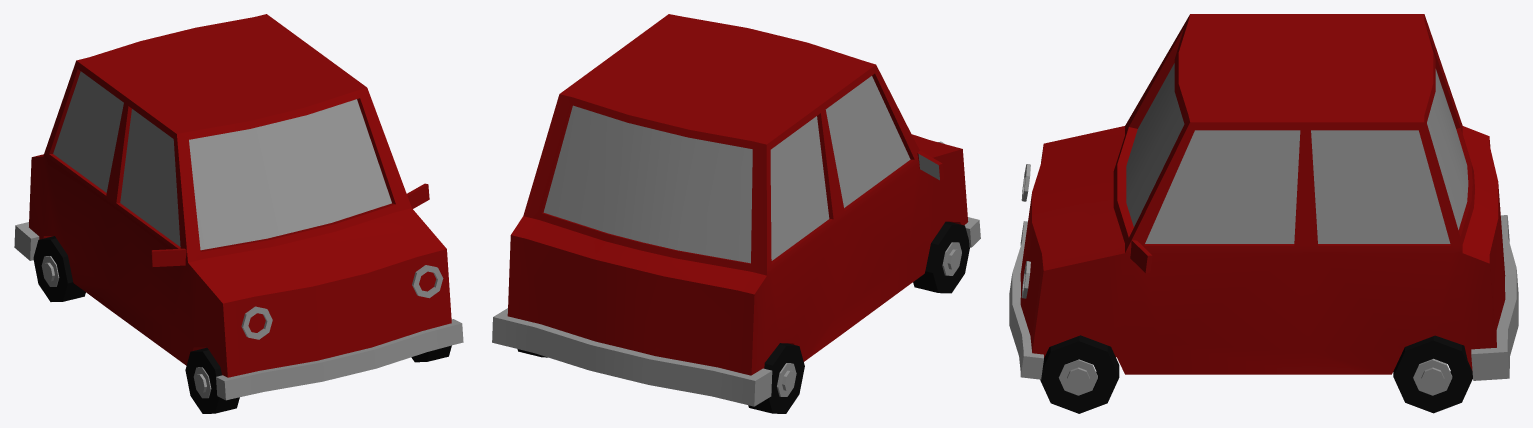
File: Car 1.FBX
3 renders of one model, left to right at view 1: azimuth 30°, elevation 25°; view 2: azimuth 150°, elevation 25°; view 3: azimuth 270°, elevation 25°, orthographic. The views are drawn at different scales.
Parts seen in each view (by area): view 1: car 1; view 2: car 1; view 3: car 1.
Boxes of the visible parts, x1,y1,x2,y2 form: car 1: (14,14,463,413); car 1: (492,14,980,413); car 1: (1009,14,1518,413).
Bounding box in the file's own units: 9.15 × 7.57 × 12.52.
